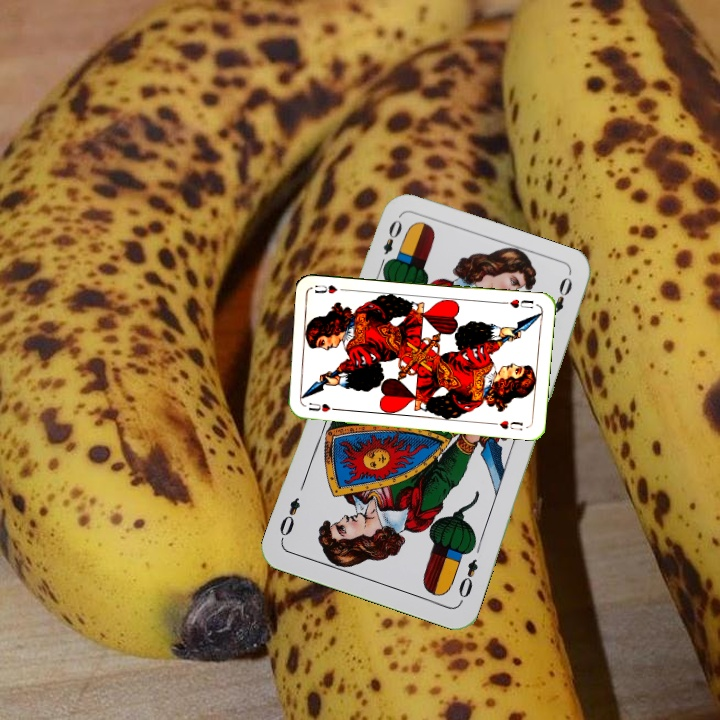EO: (375, 215, 405, 272), (454, 554, 481, 601)
HU: (499, 295, 536, 311), (305, 399, 333, 415)
